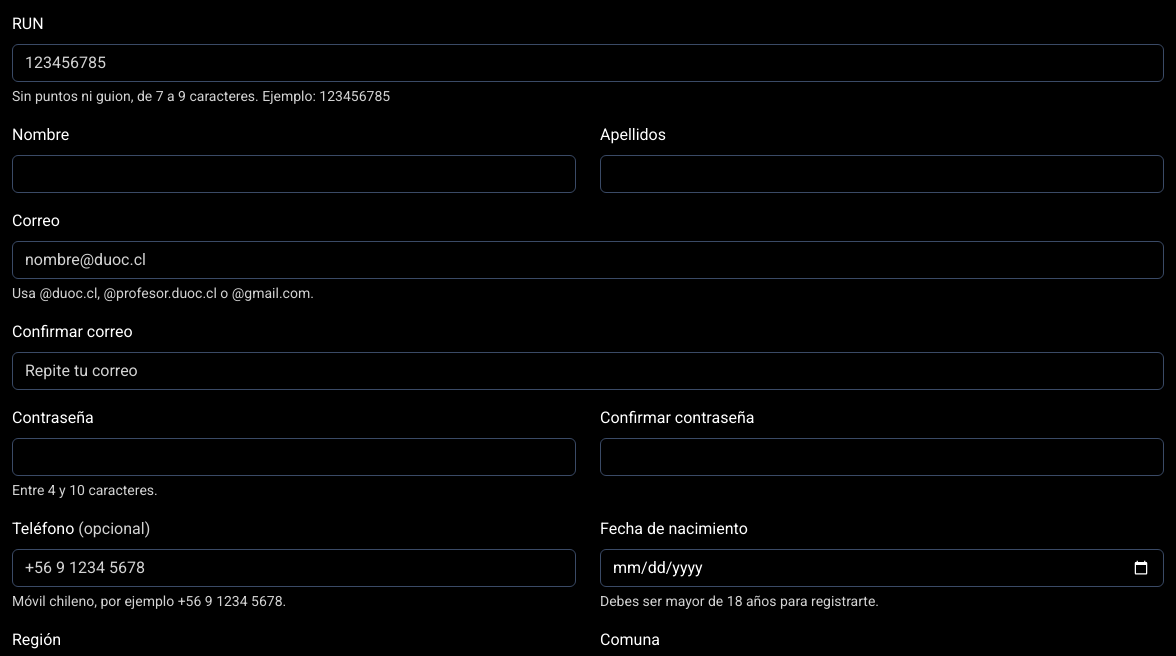
Test case: FormUsuario (modo registro) › avisa si el RUN trae puntos o guion
Type "12.345.678-5" into the field labelled "RUN" at (588, 63), box 12,44 -> 1164,82
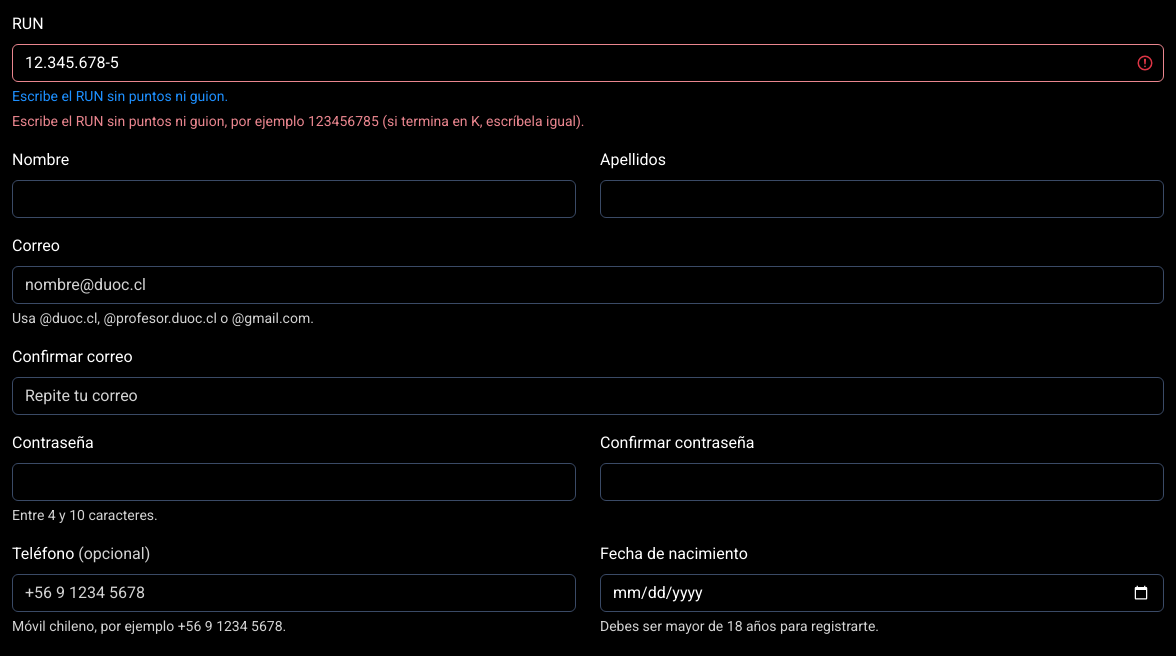
expect the text "Escribe el RUN sin puntos ni guion." is shown: met, box 12,88 -> 228,104
